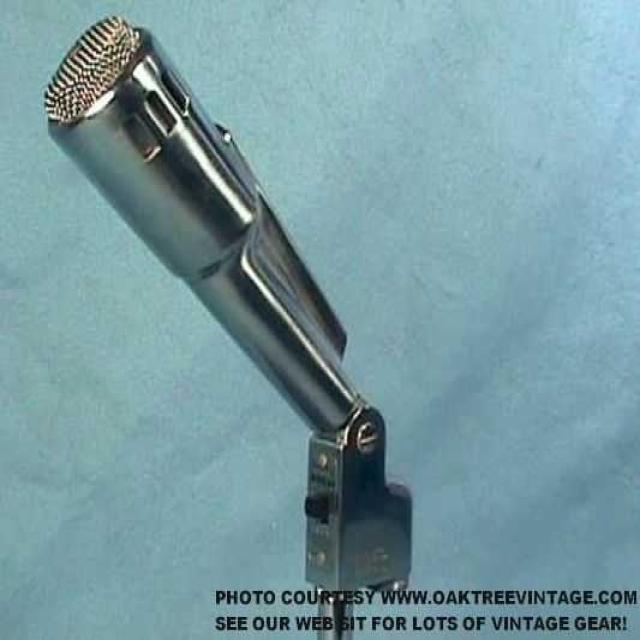microphone: (34, 0, 447, 607)
